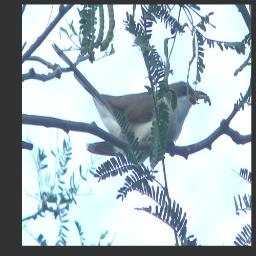Cuckoo: (47, 39, 210, 171)
